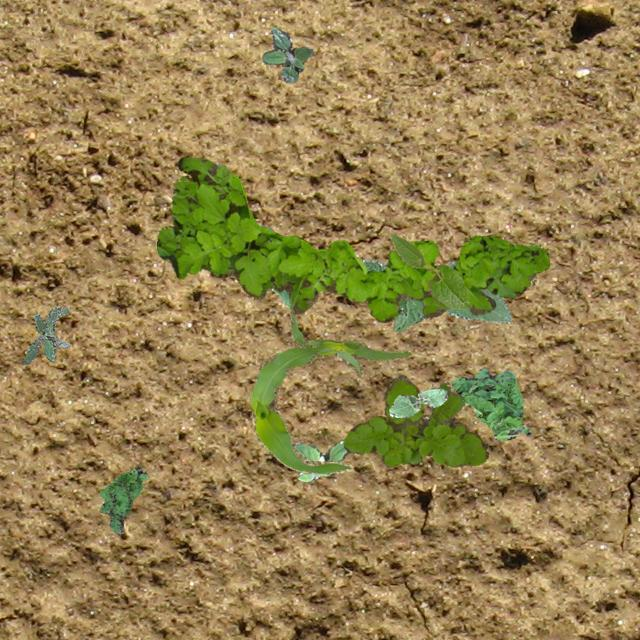crop: (248, 310, 412, 472), (358, 258, 511, 330), (390, 232, 470, 308), (388, 388, 446, 417)
weed: (156, 156, 548, 322), (342, 374, 488, 466), (450, 368, 530, 440), (98, 466, 146, 534), (260, 27, 312, 82), (22, 306, 68, 364), (260, 225, 290, 309), (294, 438, 348, 480)
